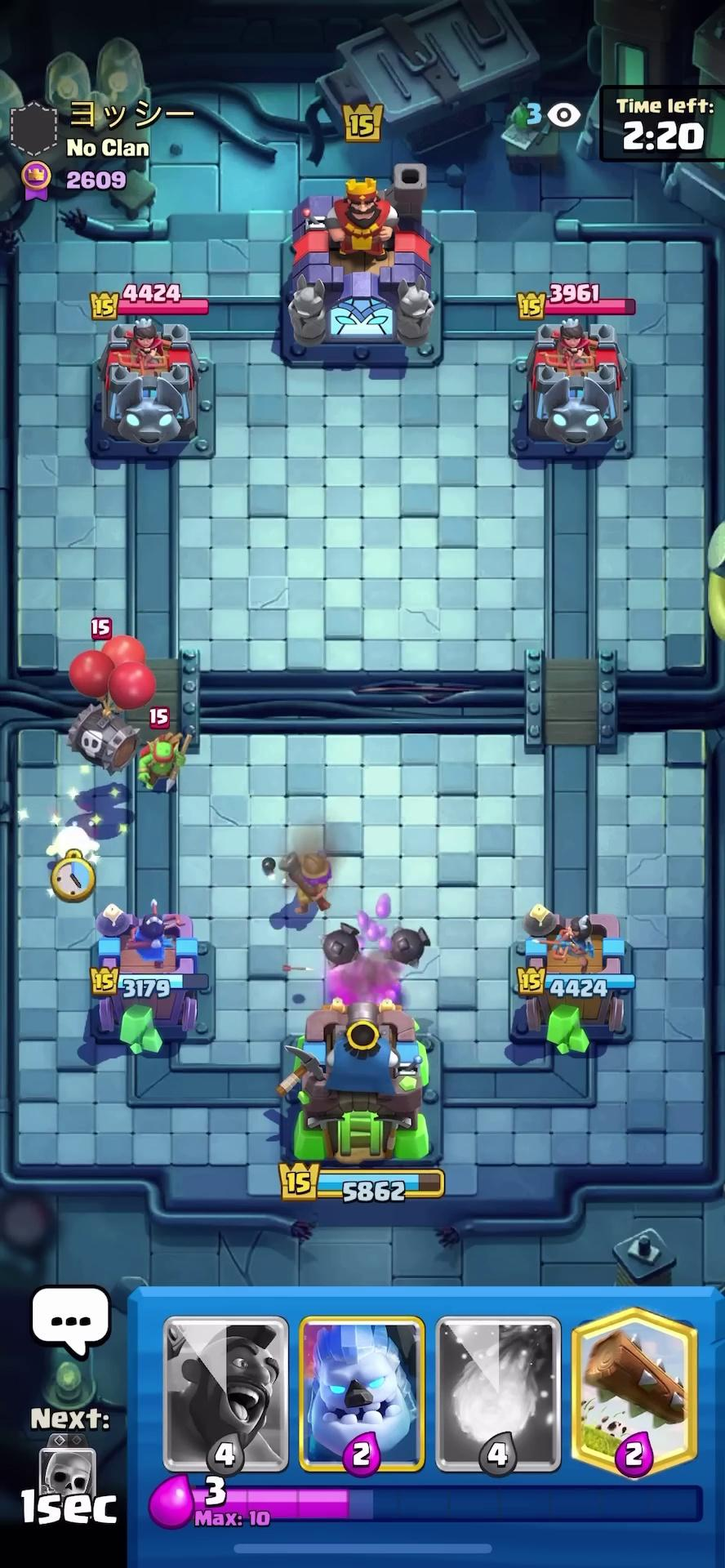ice_spirit: (55, 804, 98, 876)
musketeer: (278, 845, 341, 921)
